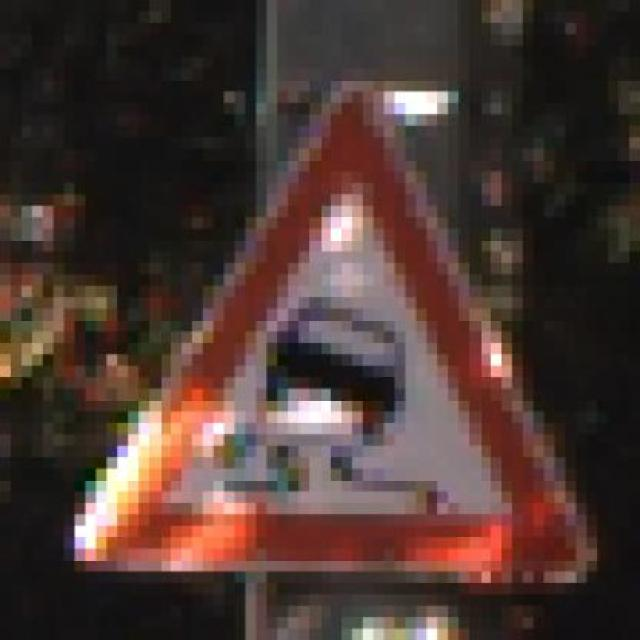Slippery Road Ahead: (66, 68, 600, 594)
